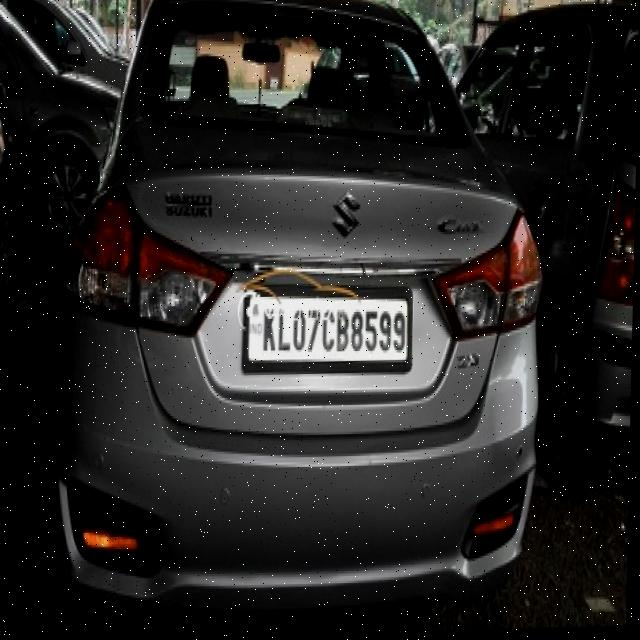plate: (246, 288, 414, 383)
